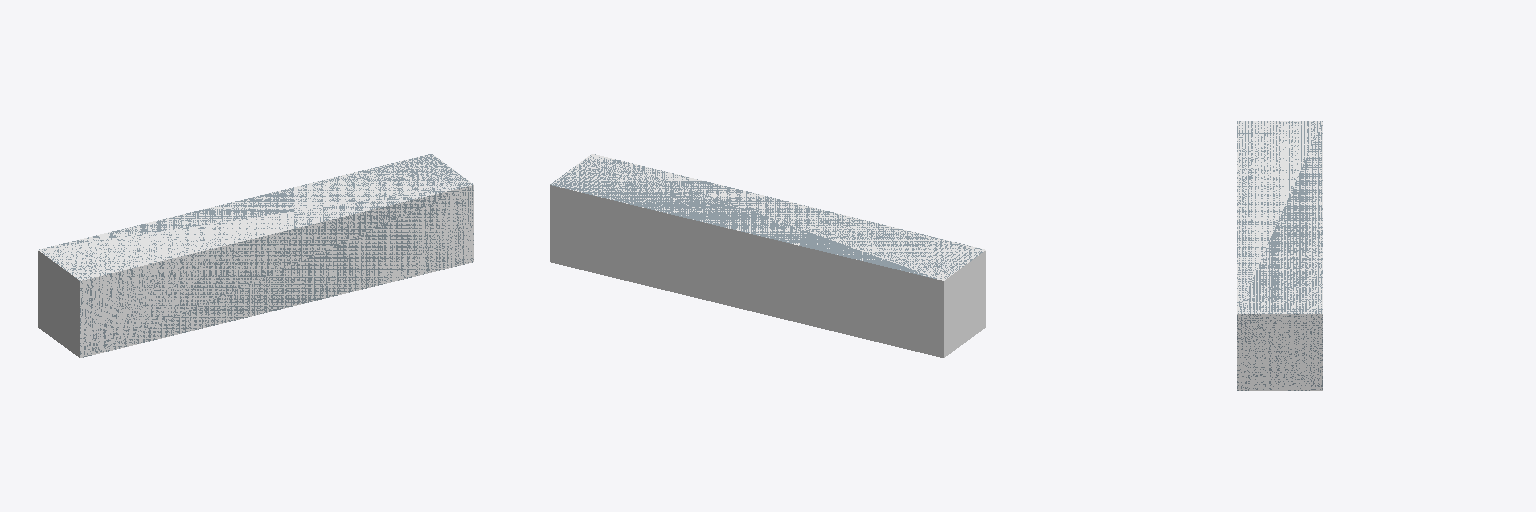
Rendered from FumeHoodDoor_Highlight.obj.
3 views of the same model, side by side, from view 1: azimuth 30°, elevation 25°; view 2: azimuth 150°, elevation 25°; view 3: azimuth 270°, elevation 25° (orthographic).
Visible parts, largest first — view 1: Mesh1 Model; view 2: Mesh1 Model; view 3: Mesh1 Model.
Boxes of the visible parts, <box> form: Mesh1 Model: <box>38,154,473,357</box>; Mesh1 Model: <box>550,154,985,357</box>; Mesh1 Model: <box>1237,121,1322,390</box>.
Bounding box in the file's own units: 0.176 × 0.033 × 0.033.